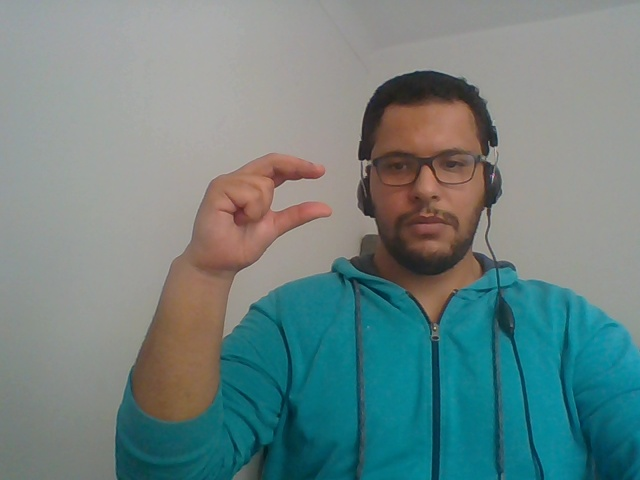no: (154, 123, 352, 341)
